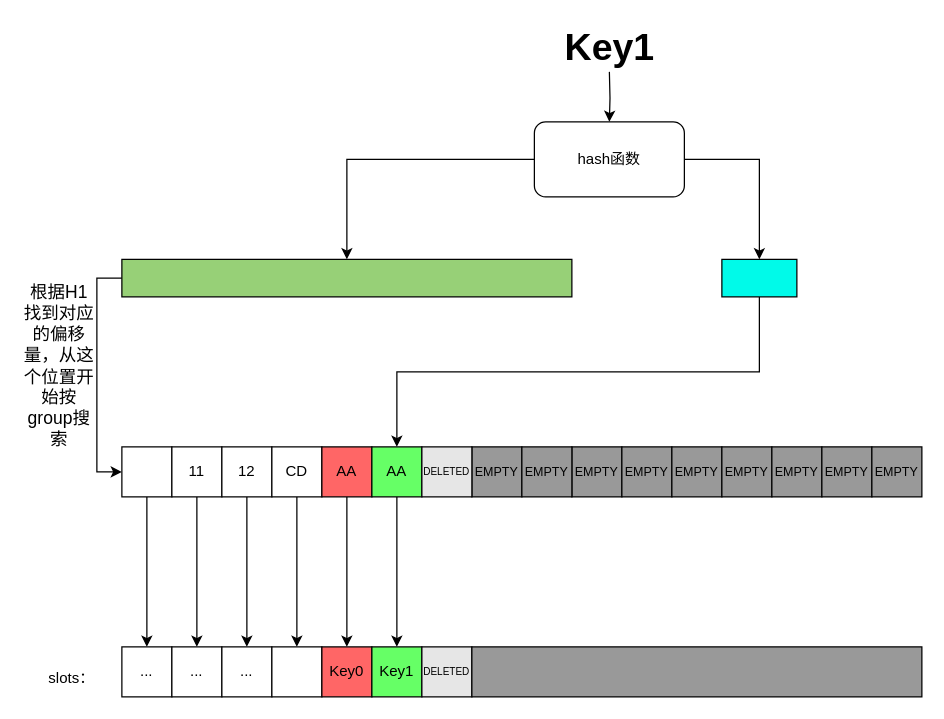
Some shapes in this 944 by 719 pixel diagram are drawn without their labels. The box of each missing label's shape, as (x1, y1, x2, y2) in pixels:
AB: (121, 446, 172, 497)
H1: (121, 258, 572, 297)
H2: (721, 258, 797, 297)
Key2: (271, 646, 322, 697)
空的还未存过元素或者删除后符合条件被标记为空: (471, 646, 922, 697)
